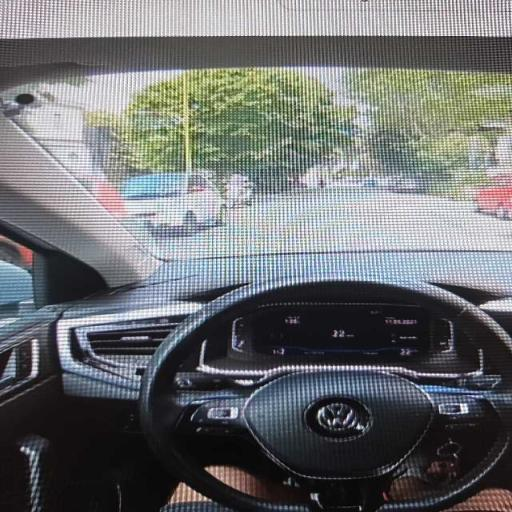car: (0, 0, 511, 511), (122, 173, 224, 229), (76, 172, 127, 219), (475, 174, 511, 218), (0, 236, 33, 269), (225, 174, 253, 208), (384, 176, 427, 193)
lane: (140, 190, 511, 258)
